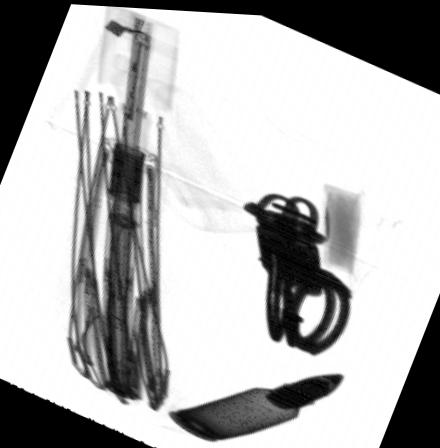Bullet: (168, 370, 343, 439)
HandCuffs: (246, 189, 357, 350)
